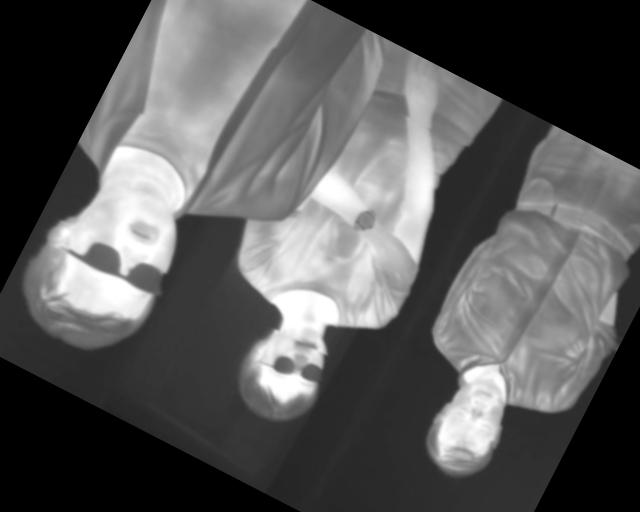face: (3, 156, 204, 376), (221, 304, 346, 439), (413, 365, 522, 489)
